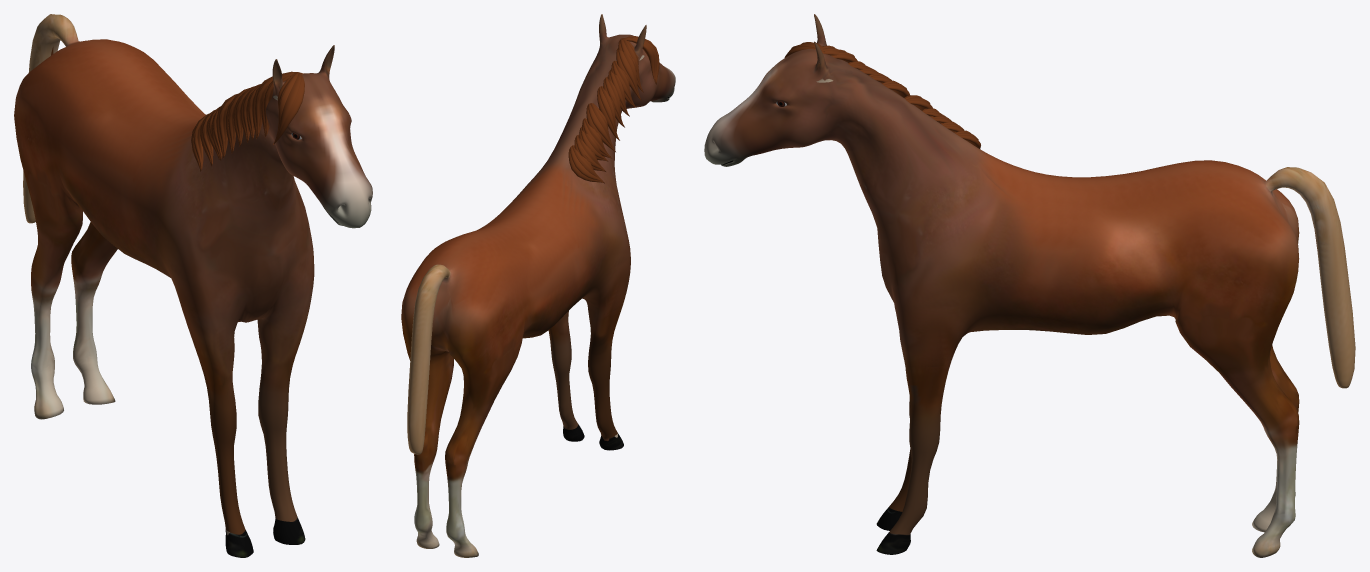
The model's file is horse.obj.
3 views of the same model, side by side, from view 1: azimuth 30°, elevation 25°; view 2: azimuth 150°, elevation 25°; view 3: azimuth 270°, elevation 25° (orthographic). The views are drawn at different scales.
Visible parts, largest first — view 1: Horse_Cube.001, Hair_BezierCurve; view 2: Horse_Cube.001, Hair_BezierCurve; view 3: Horse_Cube.001, Hair_BezierCurve.
Boxes of the visible parts, <box> form: Horse_Cube.001: <box>14,14,372,557</box>; Hair_BezierCurve: <box>191,71,304,171</box>; Horse_Cube.001: <box>401,14,675,557</box>; Hair_BezierCurve: <box>568,36,659,183</box>; Horse_Cube.001: <box>704,14,1355,557</box>; Hair_BezierCurve: <box>784,42,980,148</box>.
Bounding box in the file's own units: 0.7052 × 2.8 × 3.22.
3 materials, 2 textured.
